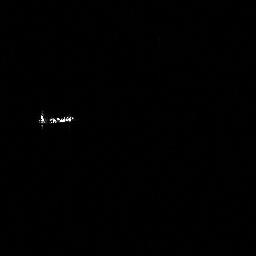ship: (37, 112, 75, 125)
